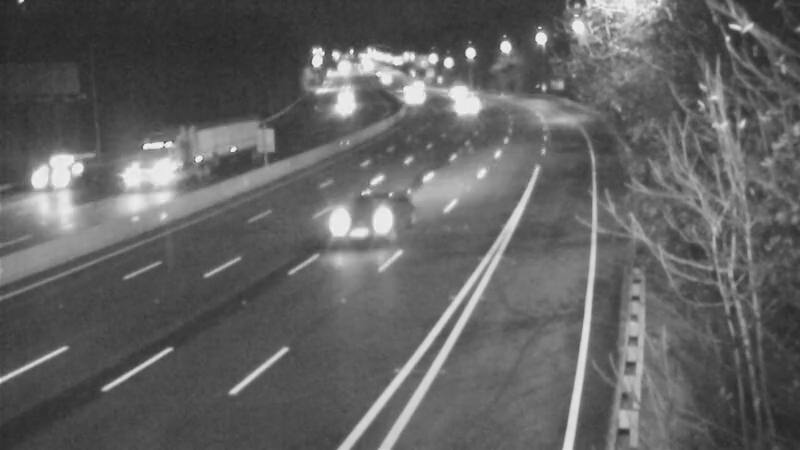vehicle: (323, 185, 403, 265), (15, 130, 95, 210), (133, 128, 213, 208), (438, 67, 488, 117), (389, 73, 439, 123), (438, 87, 488, 137), (322, 73, 372, 123)
